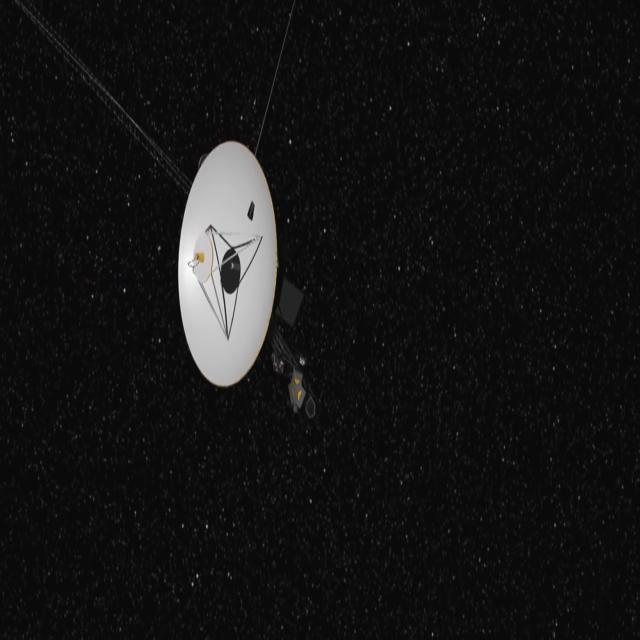medium_debris: (146, 90, 350, 450)
